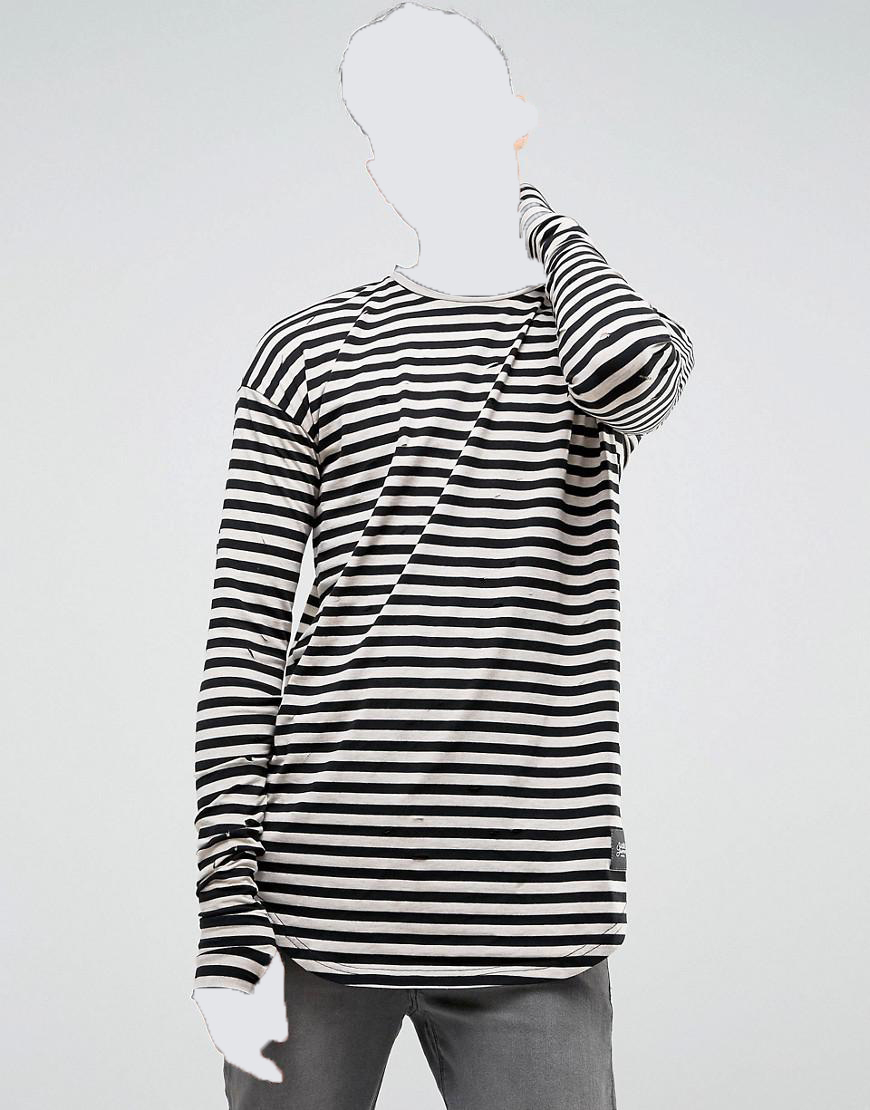teeshirt: (183, 190, 734, 996)
